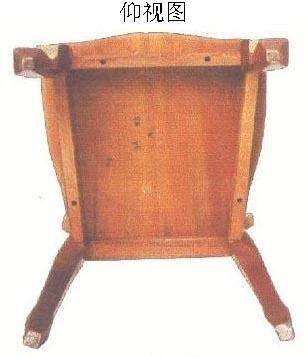obstacle: (14, 33, 294, 347)
